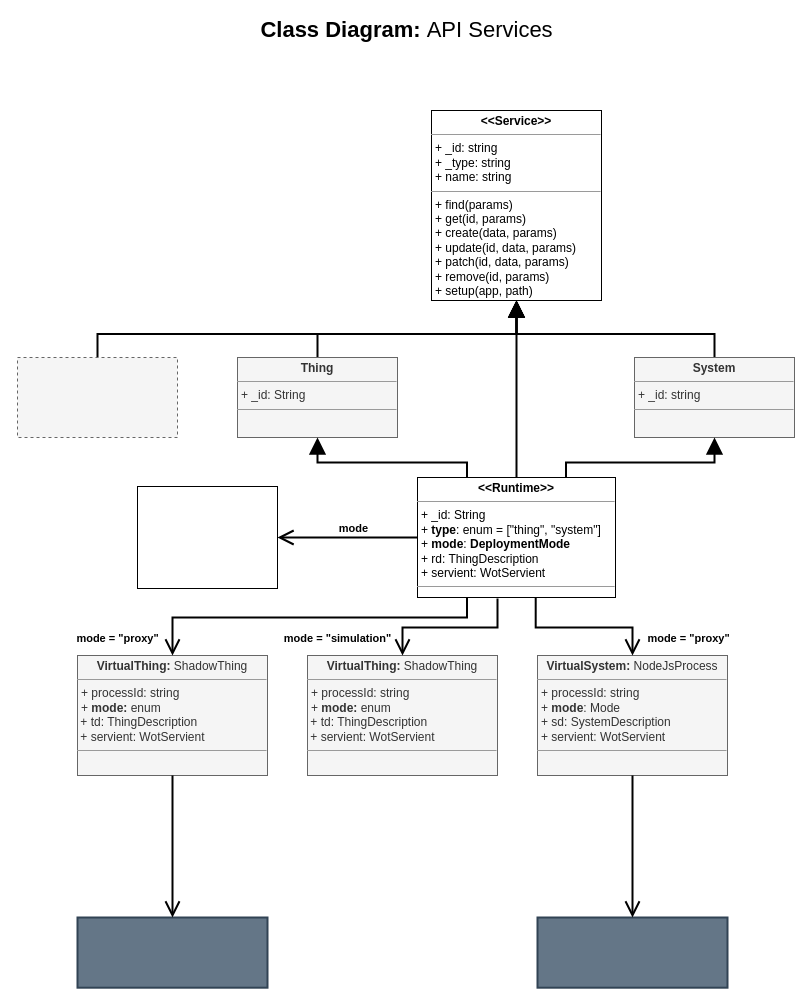
Some shapes in this 812 by 1006 pixel diagram are drawn without their labels. Here are the shapes that lost their labels. From the top down, the box of each, then its label:
(16, 356, 178, 438): User + _id: string
(136, 486, 278, 588): <<enum>> DeploymentMode "proxy" "simulation"
(76, 916, 268, 988): PhysicalThing
(536, 916, 728, 988): PhysicalSystem
